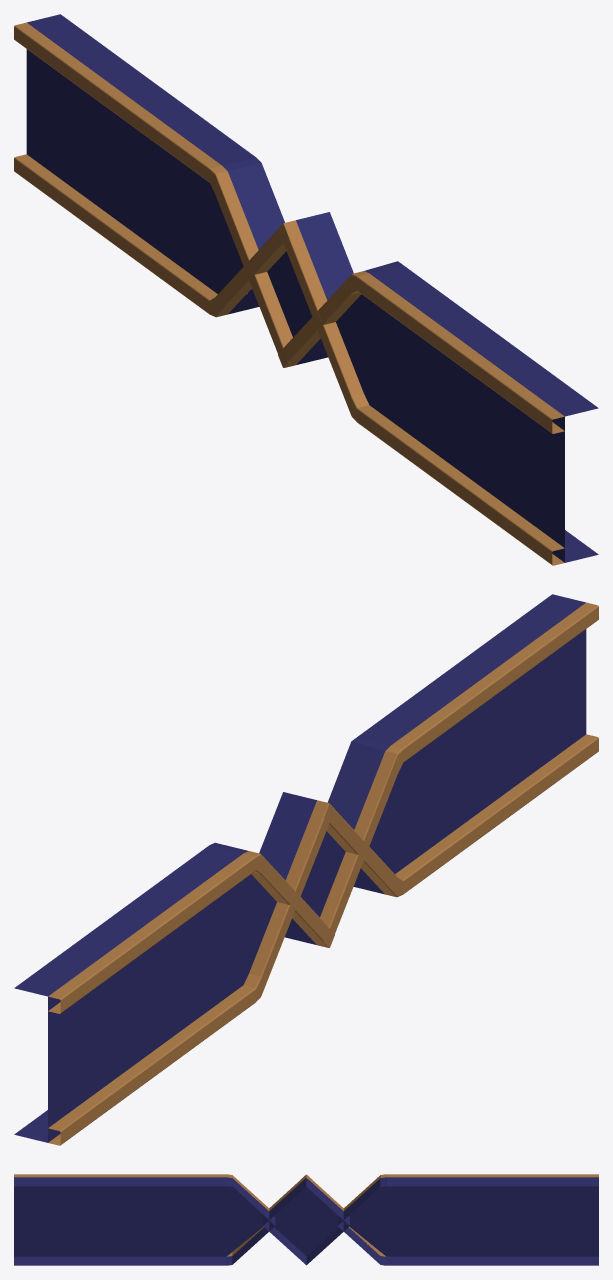
The model's file is Hookable_Surface_mid.fbx.
3 renders of one model, top to bottom at view 1: azimuth 30°, elevation 25°; view 2: azimuth 150°, elevation 25°; view 3: azimuth 270°, elevation 25°, orthographic. The views are drawn at different scales.
Parts seen in each view (by area): view 1: Hookable_Surface_Mid; view 2: Hookable_Surface_Mid; view 3: Hookable_Surface_Mid.
Boxes of the visible parts, x1=… form: Hookable_Surface_Mid: x1=14, y1=14, x2=598, y2=565; Hookable_Surface_Mid: x1=14, y1=594, x2=598, y2=1145; Hookable_Surface_Mid: x1=14, y1=1174, x2=598, y2=1265.
Size of the model in its own units: 10 by 30 by 200.
